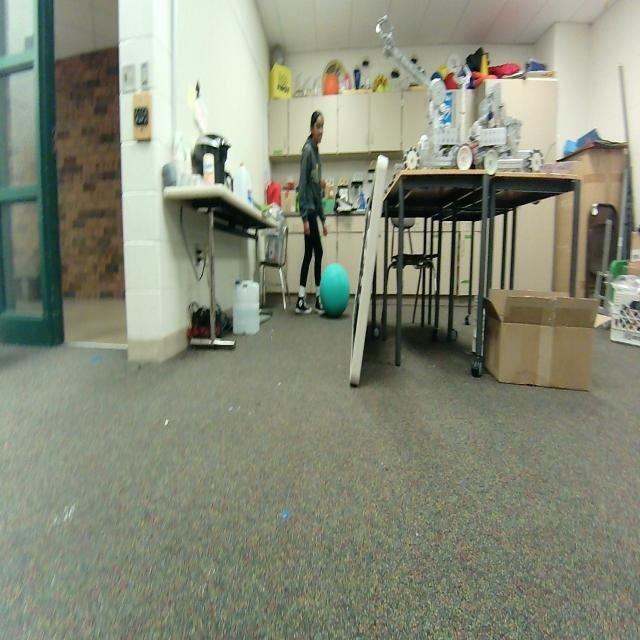algae: (318, 263, 350, 318)
